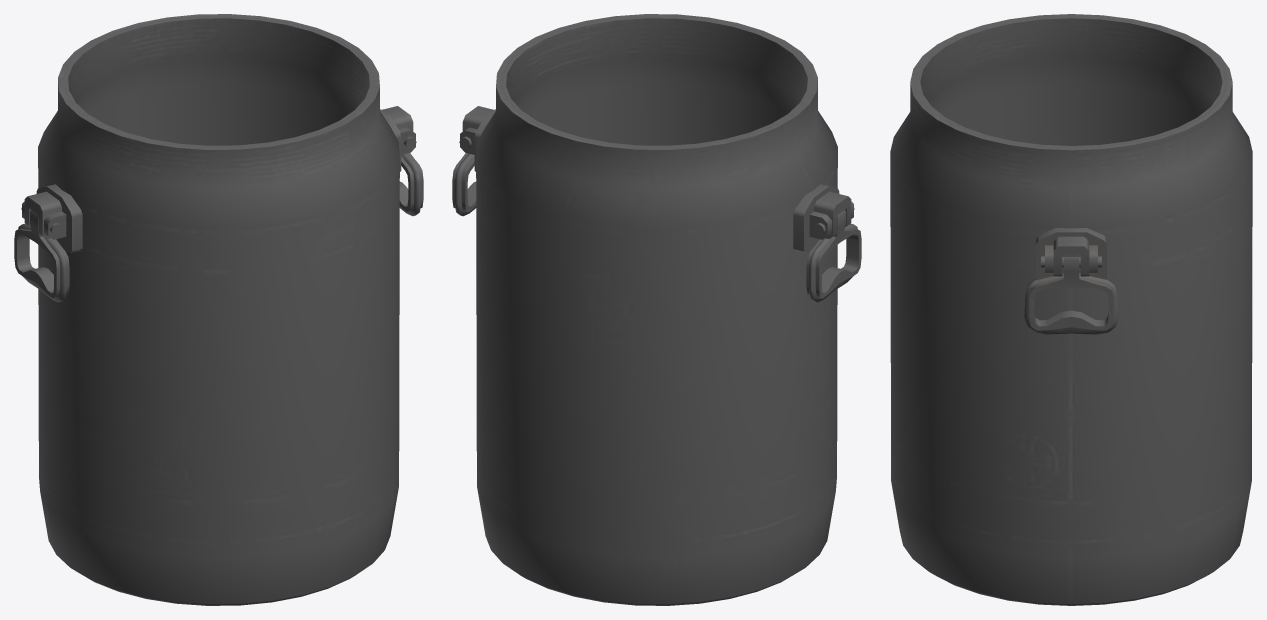
Rendered from SM_BarelPlastic_A_02.fbx.
The picture shows the model from 3 angles, left to right: view 1: azimuth 30°, elevation 25°; view 2: azimuth 150°, elevation 25°; view 3: azimuth 270°, elevation 25°; orthographic projection.
Visible parts, largest first — view 1: SM_BarelPlastic_A_02_LOD0; view 2: SM_BarelPlastic_A_02_LOD0; view 3: SM_BarelPlastic_A_02_LOD0.
Part boxes in pixels (<box>): SM_BarelPlastic_A_02_LOD0: <box>14,14,423,605</box>; SM_BarelPlastic_A_02_LOD0: <box>452,14,861,605</box>; SM_BarelPlastic_A_02_LOD0: <box>890,14,1252,605</box>.
Bounding box in the file's own units: 70.81 × 60 × 82.95.
